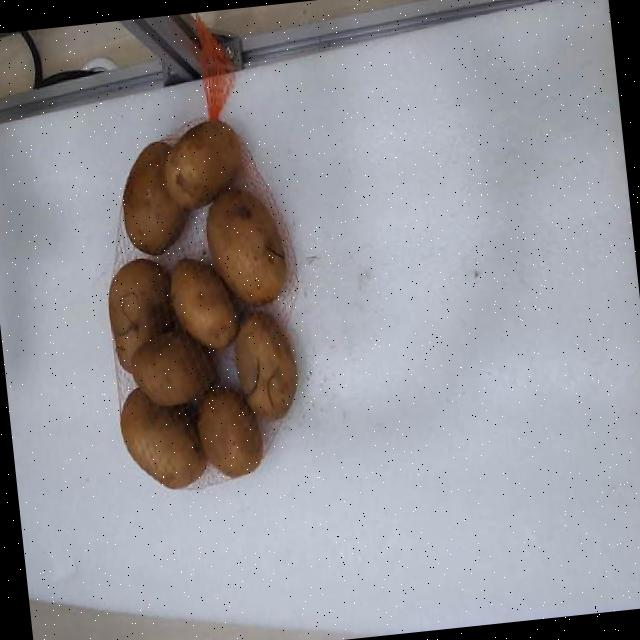potato: (205, 192, 285, 303), (119, 387, 205, 488), (121, 141, 185, 254), (107, 260, 170, 370), (163, 120, 240, 207), (234, 311, 294, 420), (130, 330, 214, 403), (171, 258, 238, 349), (196, 389, 261, 476)
